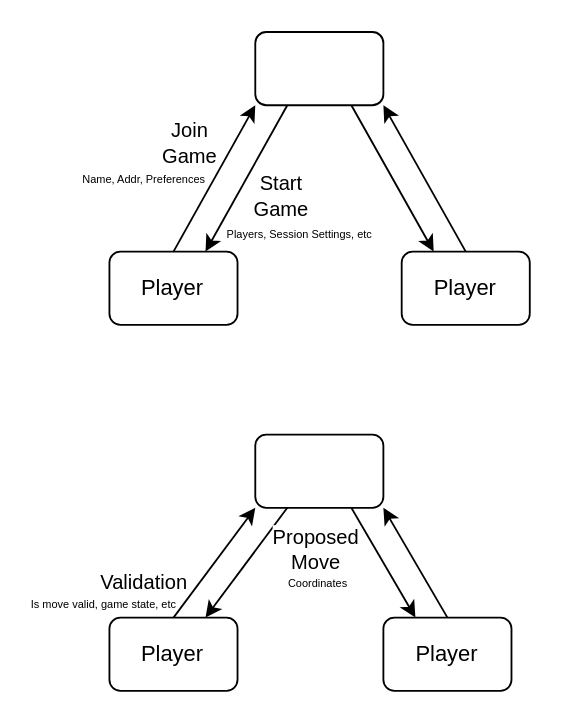
This 562x723 diagram has some shape labels left out. Each missing label, with the centre of its shape:
Host: [318,67]
Player Drawing: [318,470]
